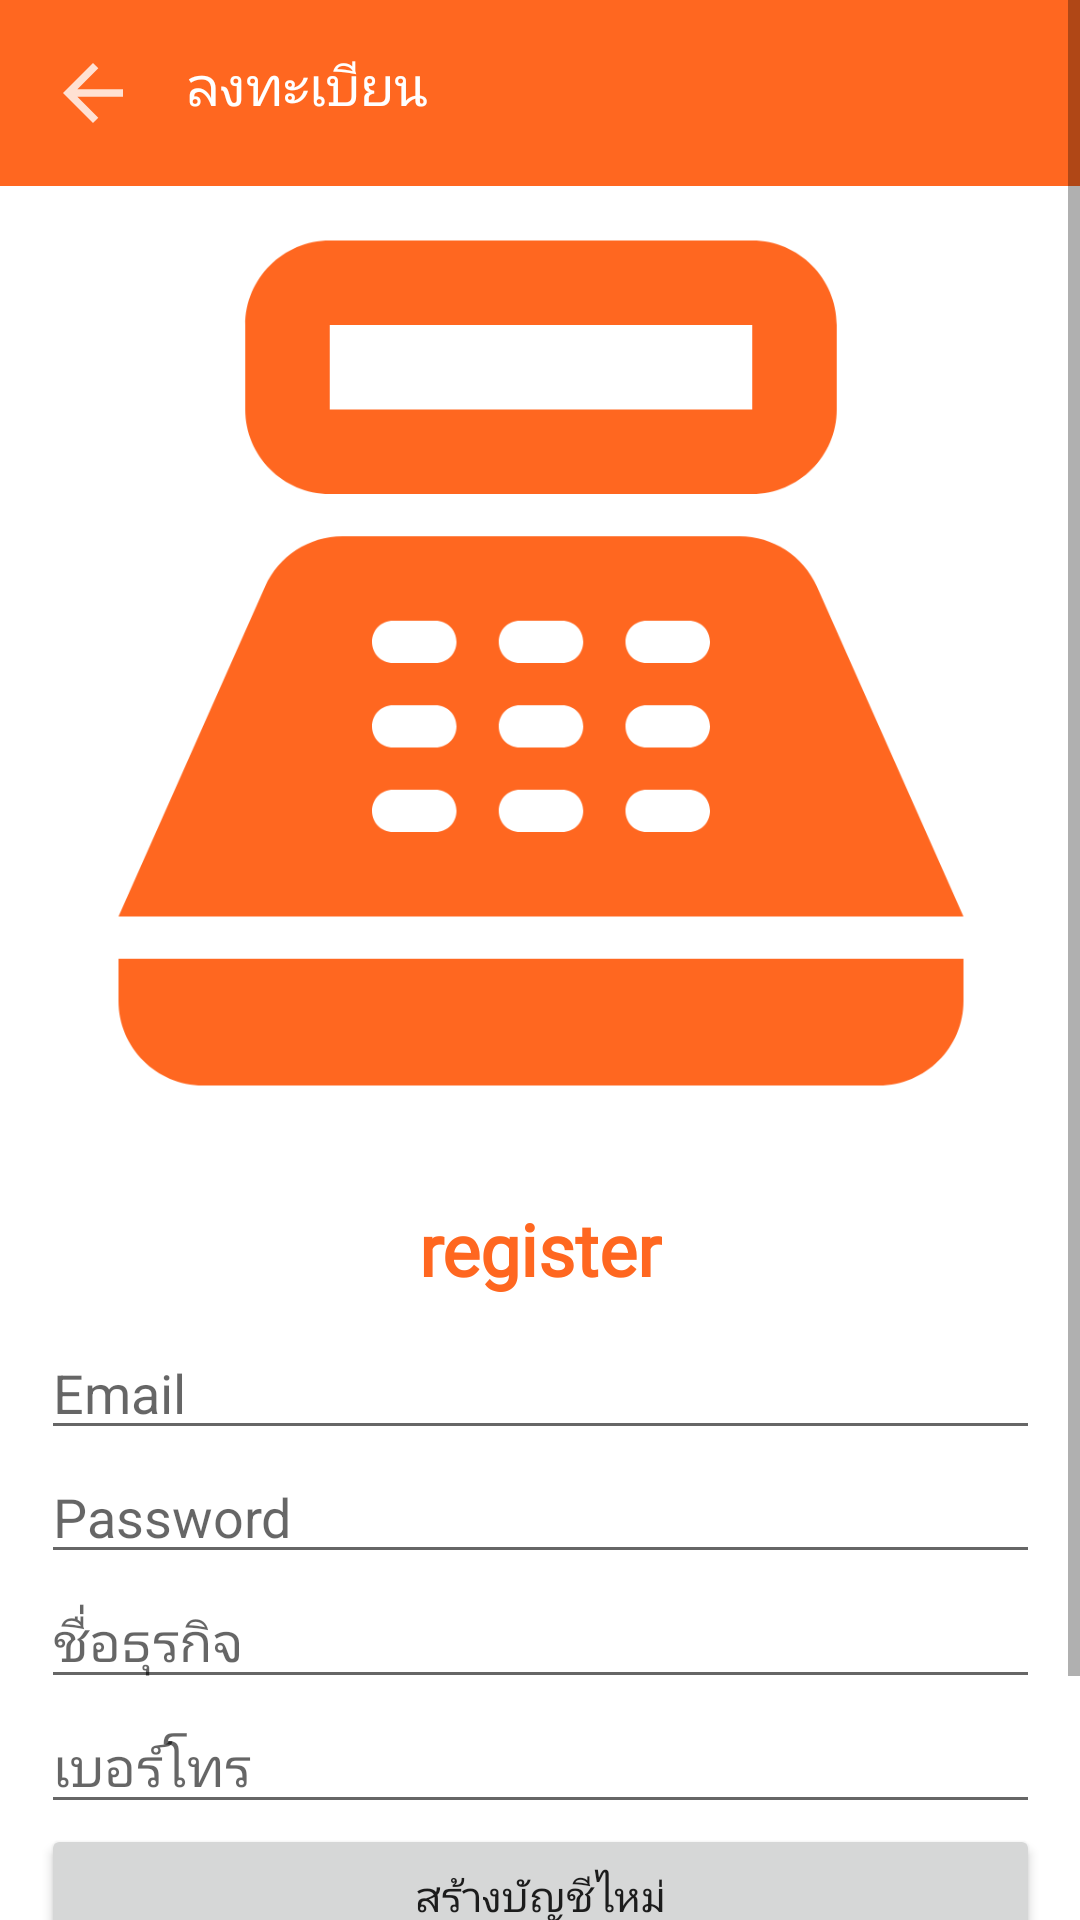

Locate icon controls on the screen. Image size 1080×1920, boxes as (x1, y1, x2, y2).
back page: (63, 63, 123, 123)
